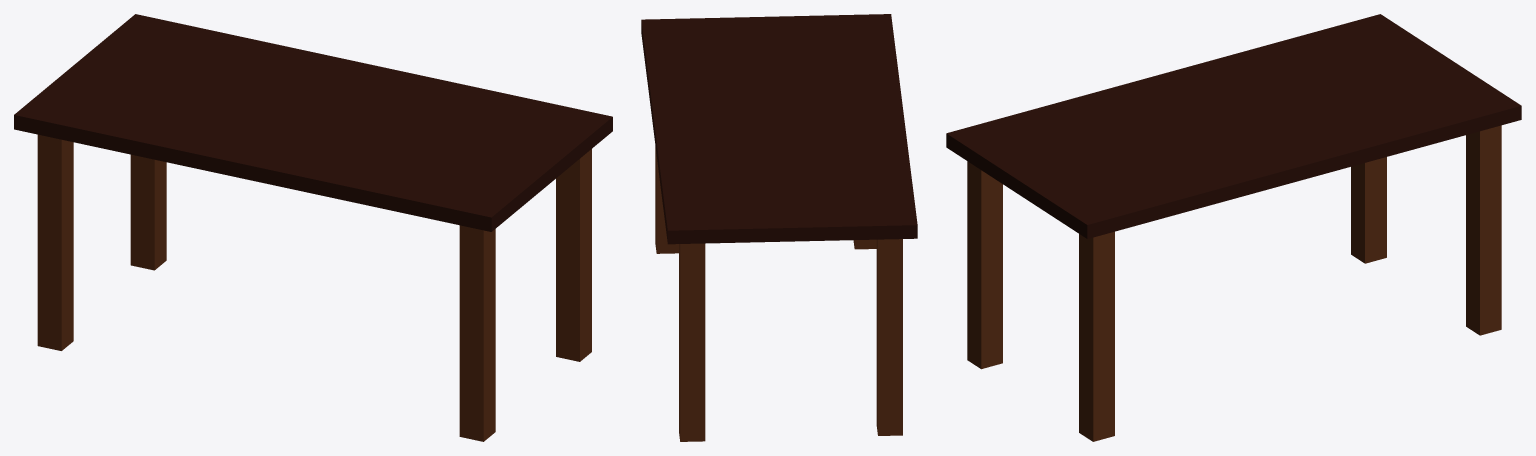
File: desk.FBX
The picture shows the model from 3 angles, left to right: view 1: azimuth 30°, elevation 25°; view 2: azimuth 150°, elevation 25°; view 3: azimuth 270°, elevation 25°; orthographic projection. The views are drawn at different scales.
Visible parts, largest first — view 1: Table; view 2: Table; view 3: Table.
Boxes of the visible parts, <box> form: Table: <box>14,14,612,441</box>; Table: <box>641,14,917,441</box>; Table: <box>946,14,1521,441</box>.
Size of the model in its own units: 1929 by 960 by 2222.
